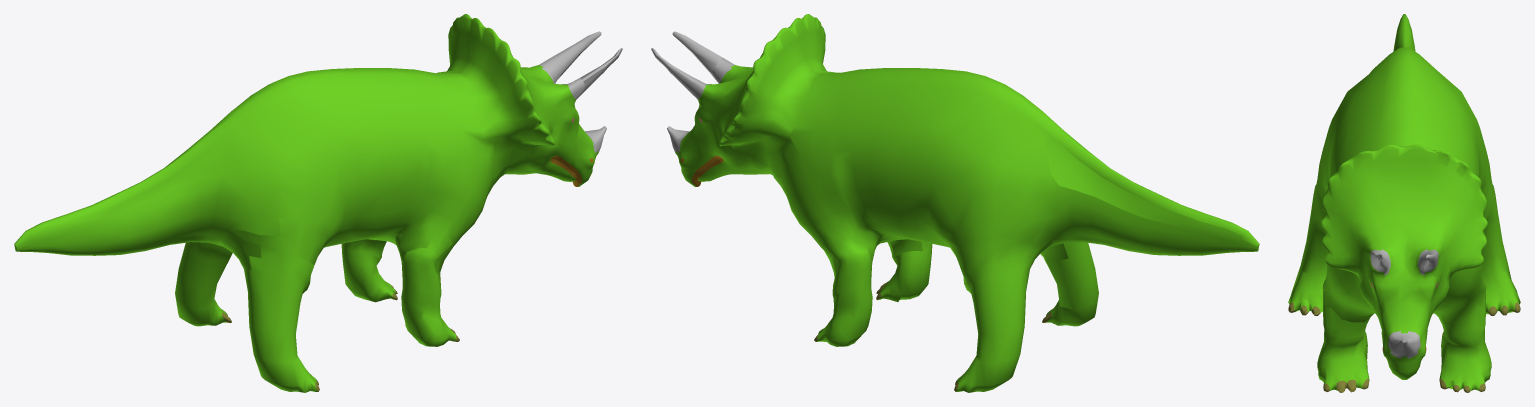
Rendered from triceratops.obj.
3 views of the same model, side by side, from view 1: azimuth 30°, elevation 25°; view 2: azimuth 150°, elevation 25°; view 3: azimuth 270°, elevation 25° (orthographic). The views are drawn at different scales.
Visible parts, largest first — view 1: skin, horns; view 2: skin, horns; view 3: skin, horns, toes.
Boxes of the visible parts, x1,y1,x2,y2 form: skin: (14,14,598,392); horns: (539,31,622,153); skin: (675,14,1259,392); horns: (651,31,734,153); skin: (1288,14,1520,390); horns: (1370,249,1438,358); toes: (1288,302,1520,392).
Bounding box in the file's own units: 17.72 × 7.76 × 5.86.
